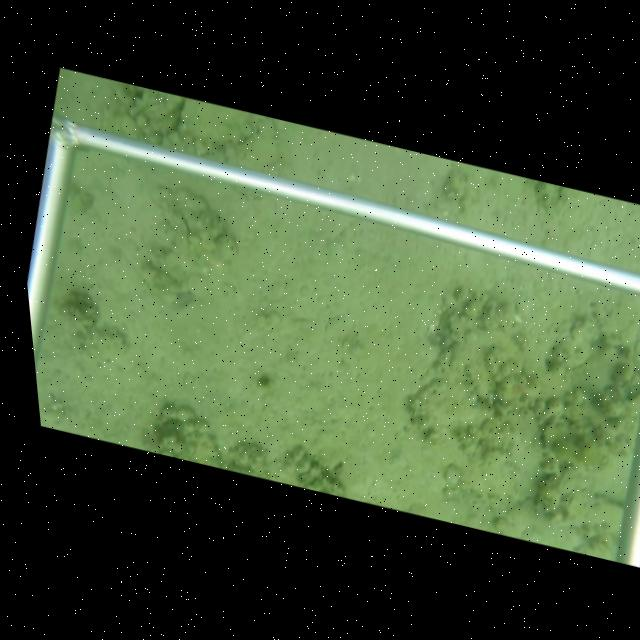Oyster-Indeterminate: (175, 100, 254, 147)
